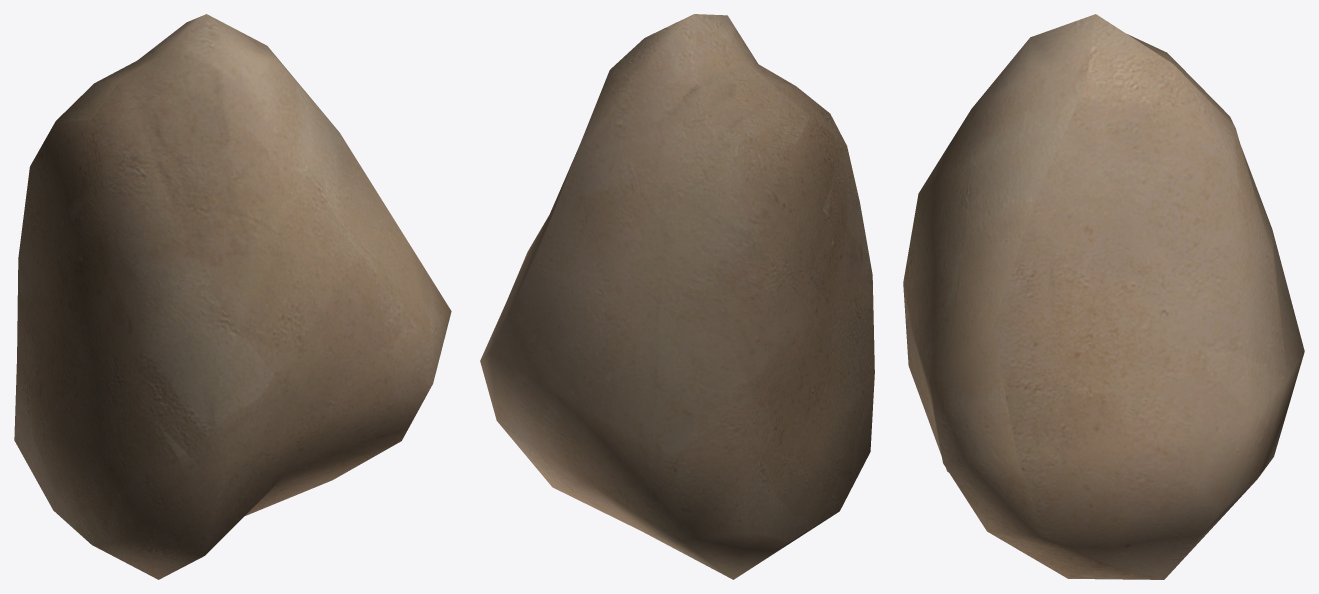
File: props_coalmines_boulder3.glb
3 views of the same model, side by side, from view 1: azimuth 30°, elevation 25°; view 2: azimuth 150°, elevation 25°; view 3: azimuth 270°, elevation 25° (orthographic). The views are drawn at different scales.
Visible parts, largest first — view 1: models/props_coalmines/boulder3; view 2: models/props_coalmines/boulder3; view 3: models/props_coalmines/boulder3.
Part boxes in pixels (<box>): models/props_coalmines/boulder3: <box>14,14,451,579</box>; models/props_coalmines/boulder3: <box>480,14,874,579</box>; models/props_coalmines/boulder3: <box>903,14,1304,579</box>.
Bounding box in the file's own units: 61.47 × 91.17 × 59.35.
1 material, 1 textured.
